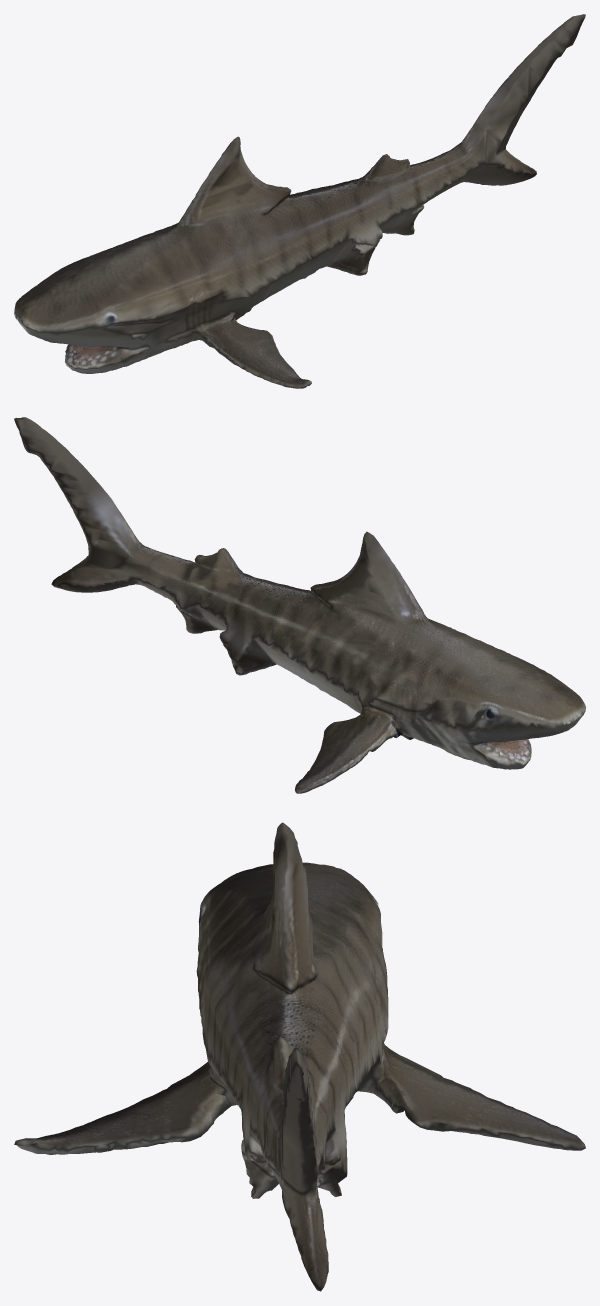
The model's file is shark.obj.
3 renders of one model, top to bottom at view 1: azimuth 30°, elevation 25°; view 2: azimuth 150°, elevation 25°; view 3: azimuth 270°, elevation 25°, orthographic. The views are drawn at different scales.
Visible parts, largest first — view 1: shark.001; view 2: shark.001; view 3: shark.001.
Part boxes in pixels (x1,y1,x2,y2): shark.001: (14, 14, 585, 388); shark.001: (14, 417, 585, 793); shark.001: (14, 822, 585, 1291).
Size of the model in its own units: 7.59 by 2.96 by 3.85.
1 material, 1 textured.
